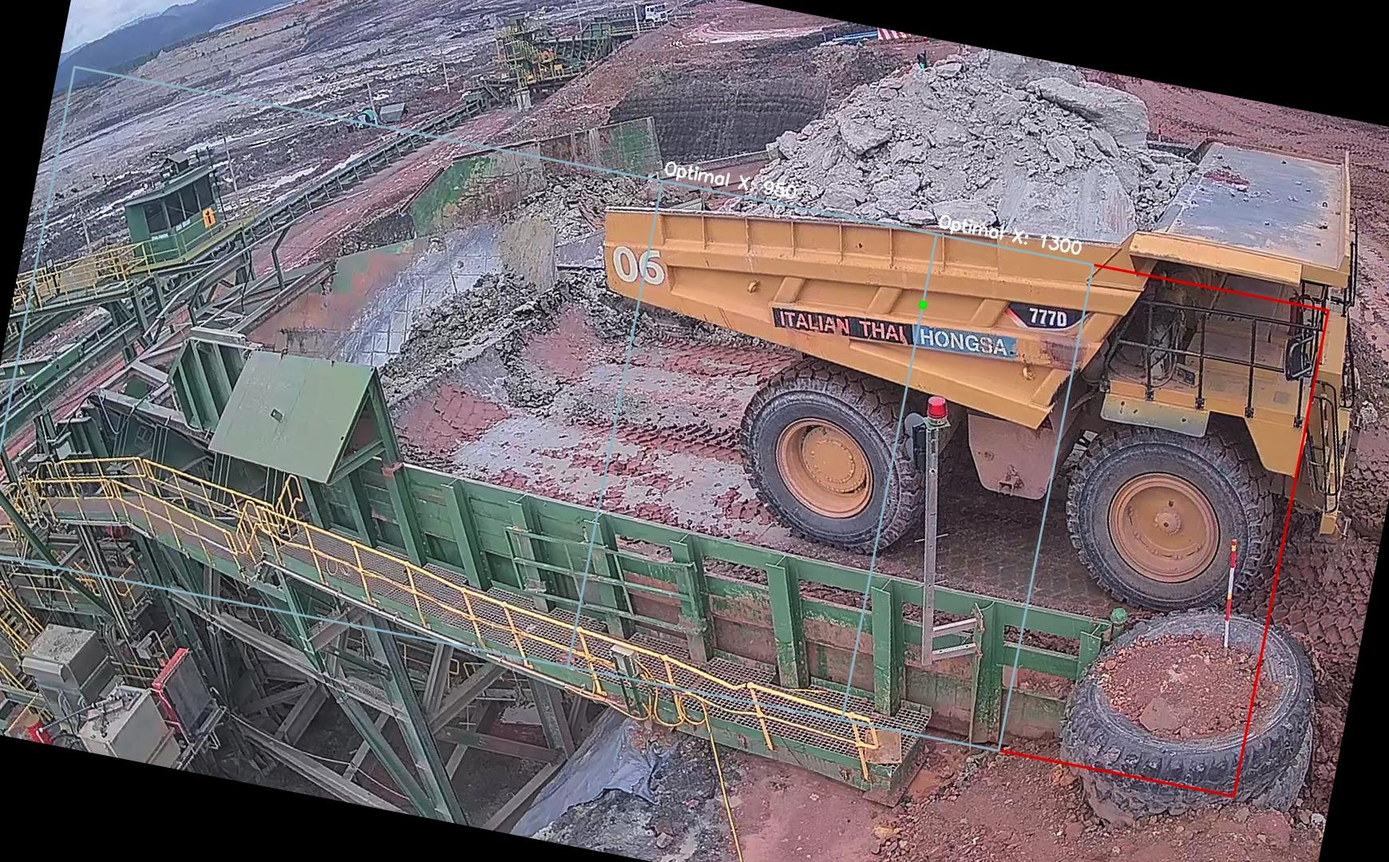company: (752, 271, 1025, 382)
full_load: (750, 24, 1153, 273)
mining_truck: (537, 0, 1389, 641)
tail_number: (594, 230, 683, 304)
truck_size: (1003, 287, 1090, 344)
